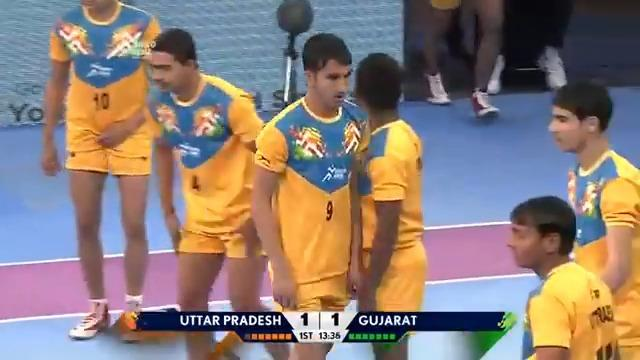Player: (39, 1, 163, 340), (142, 25, 268, 355), (250, 31, 370, 358), (546, 79, 639, 358), (346, 52, 427, 358), (505, 195, 620, 359)
